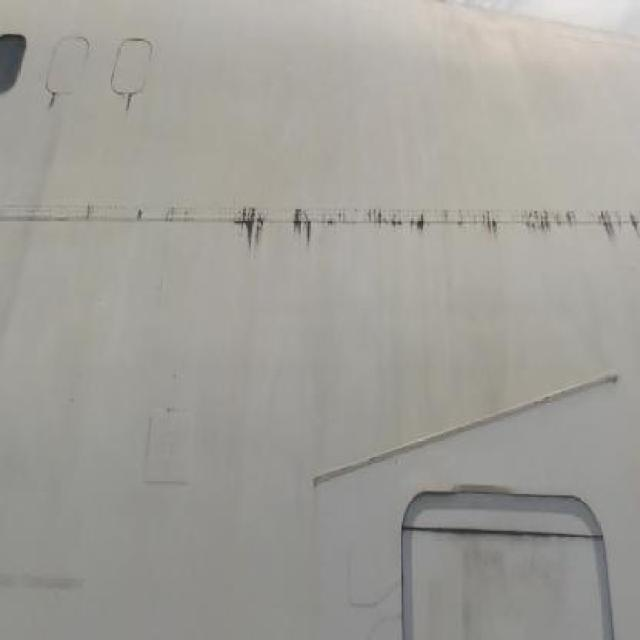Rust: (222, 183, 638, 271), (45, 94, 64, 114), (126, 92, 134, 119)
Scartch: (447, 536, 584, 632), (2, 556, 102, 613)
